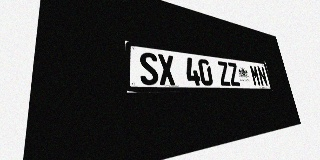0: (197, 59, 213, 86)
4: (184, 57, 201, 86)
M: (249, 65, 261, 86)
N: (257, 66, 268, 86)
S: (139, 51, 159, 85)
X: (157, 54, 176, 85)
Z: (217, 61, 231, 86), (227, 62, 241, 86)
